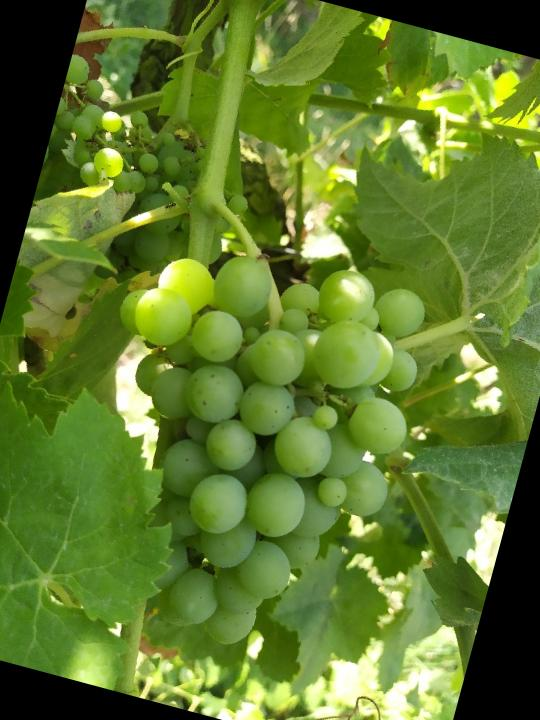grape: (40, 213, 444, 679)
